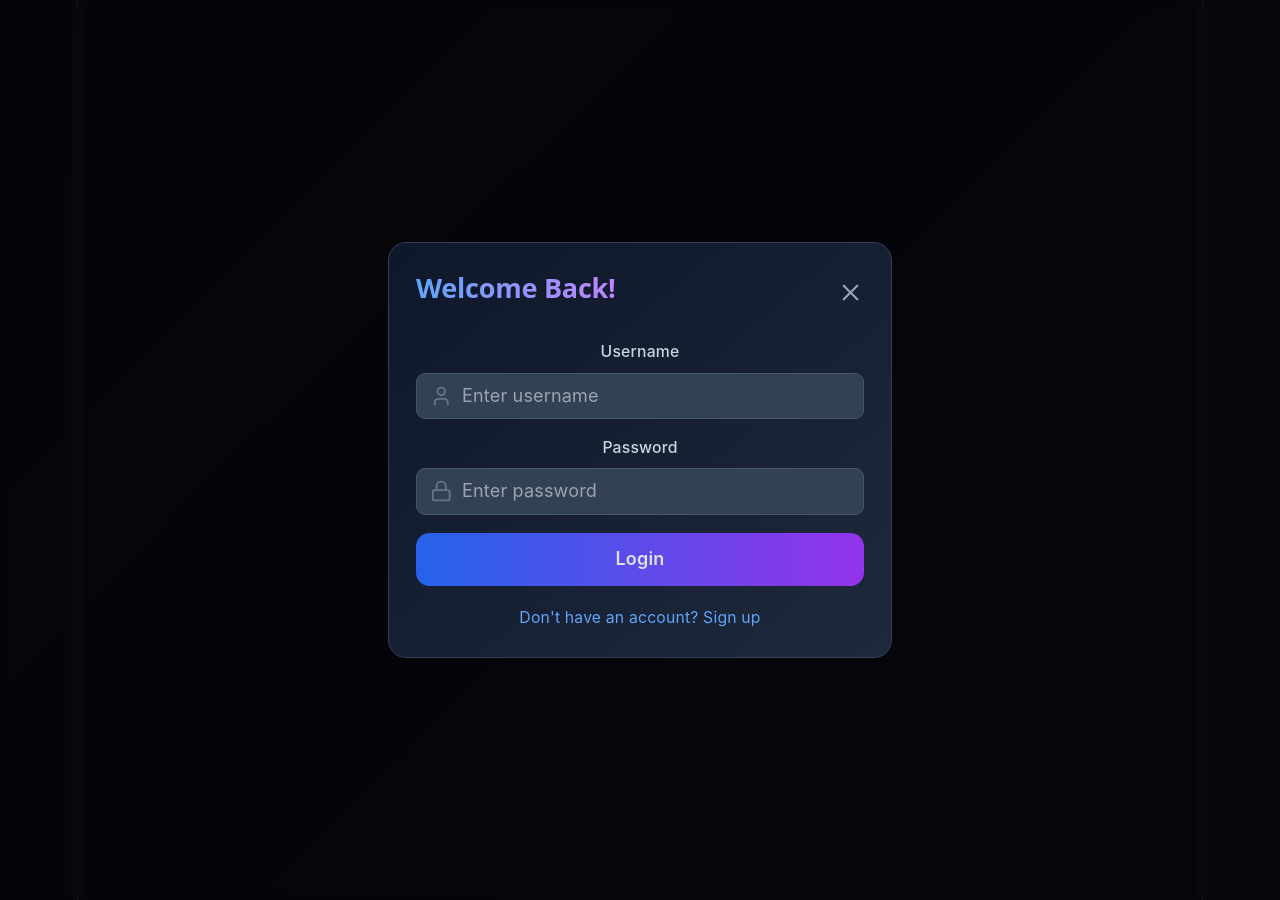
AuthModal › Login functionality › should show error message on login failure
The image size is (1280, 900).
Type "testuser" into the field with placeholder "Enter username" at x=640, y=396, box top-left (416, 373), bottom-right (864, 419)
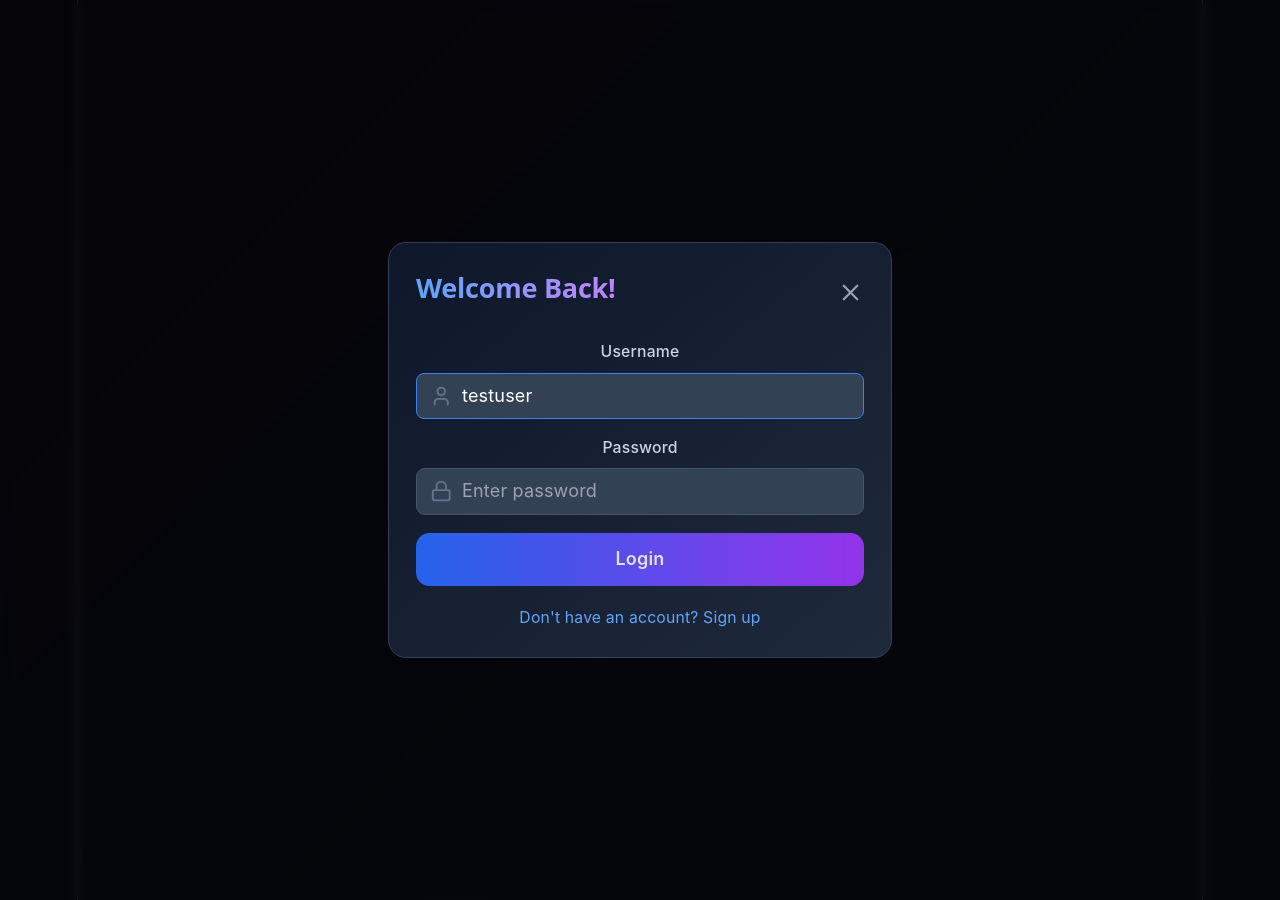
Type "wrongpassword" into the password field with placeholder "Enter password" at x=640, y=491, box top-left (416, 468), bottom-right (864, 514)
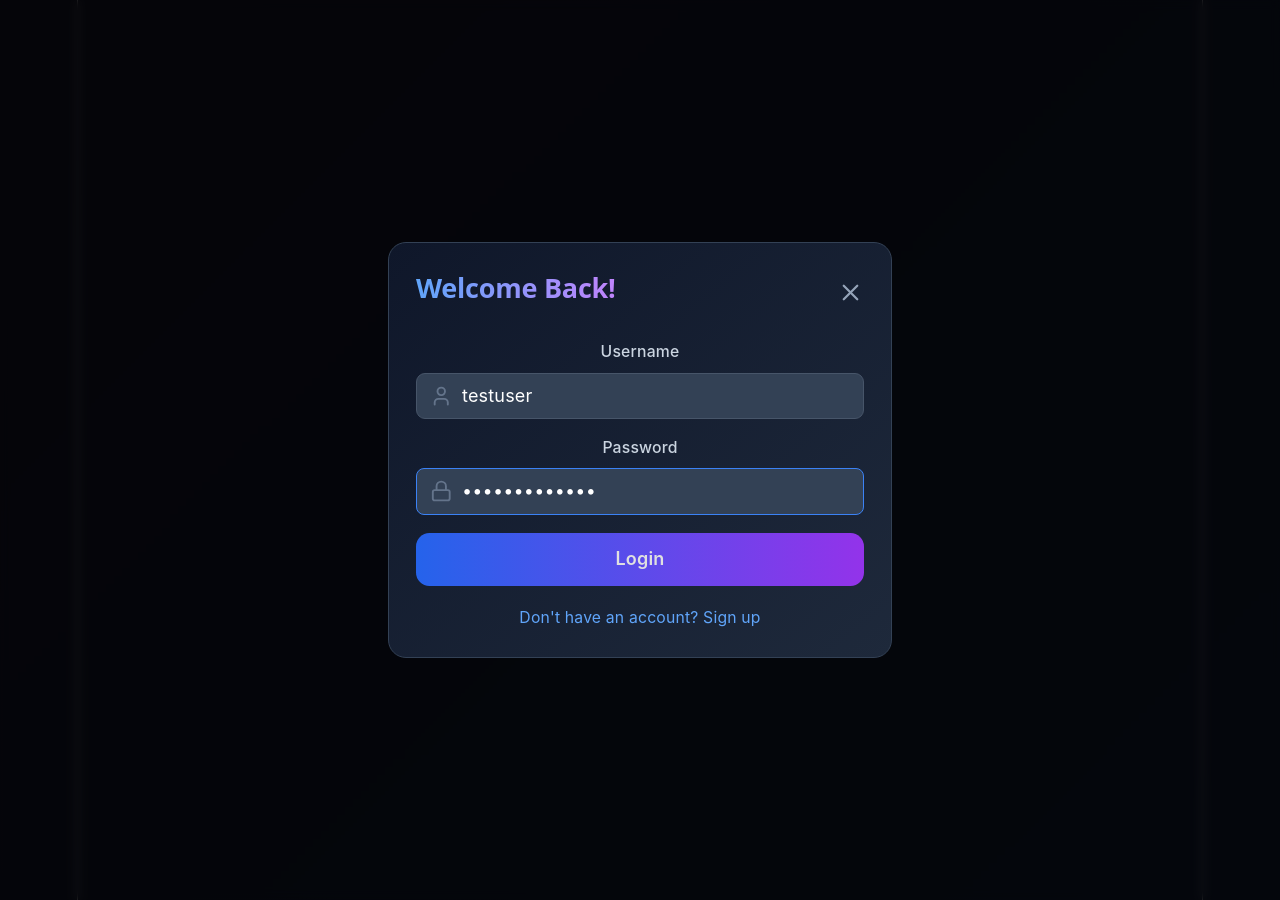
Click the button "Login" at x=640, y=559, box top-left (416, 532), bottom-right (864, 586)
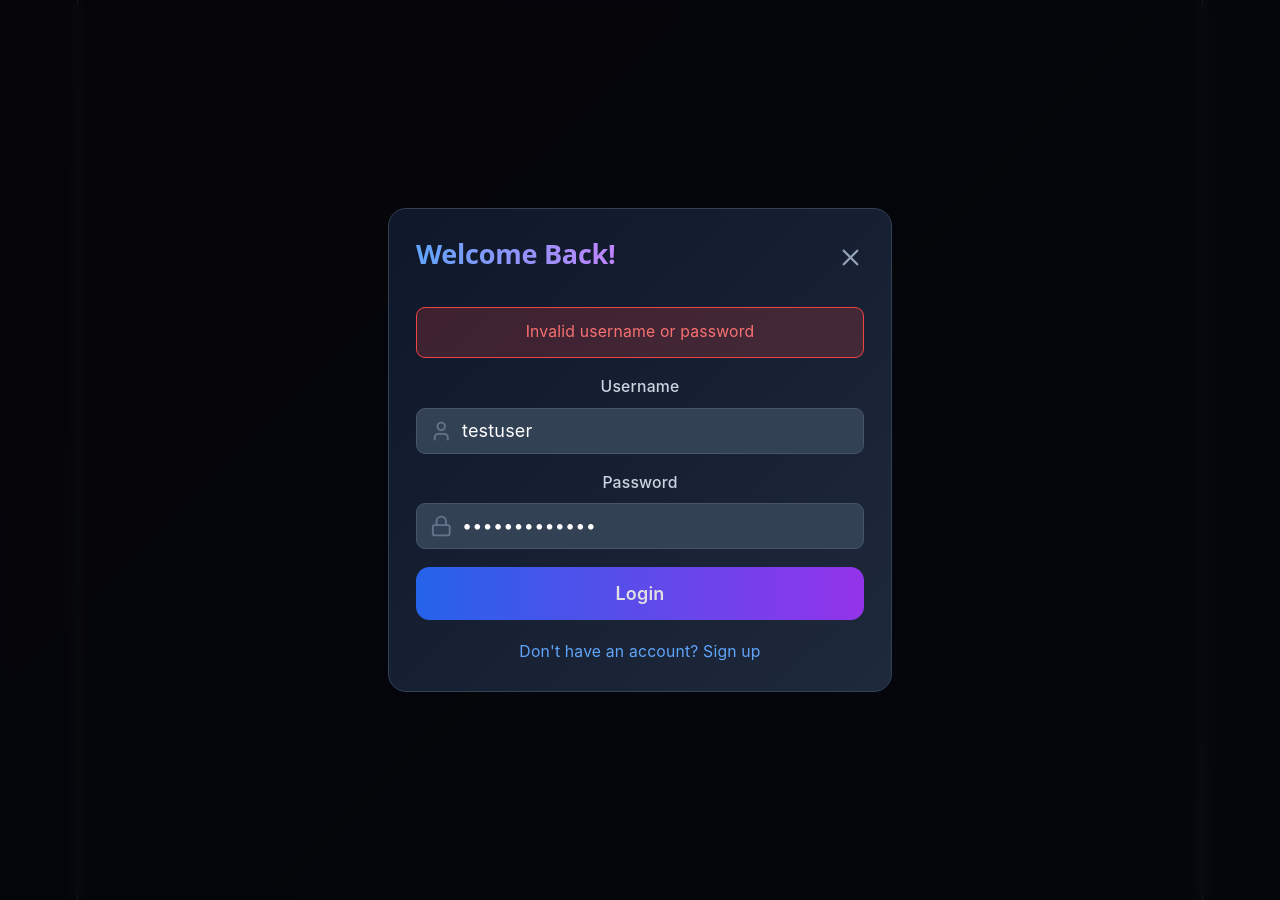
Expected: the text "Invalid username or password" is shown, top-left (416, 307), bottom-right (864, 358)
